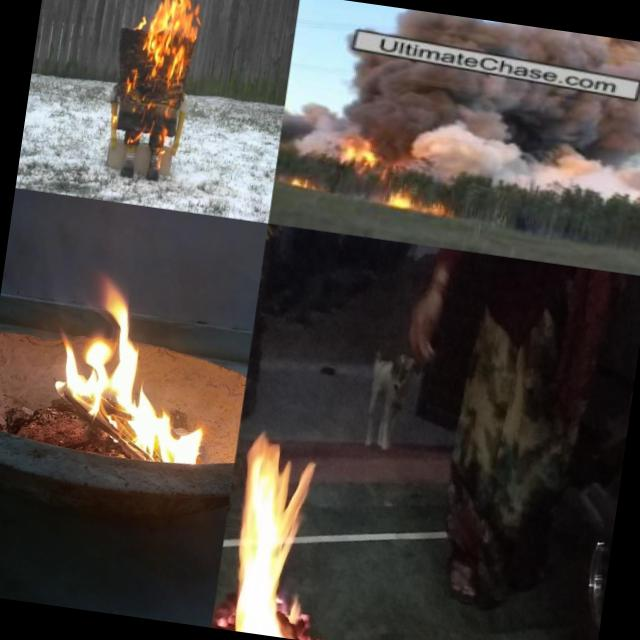fire: (42, 294, 222, 470), (219, 427, 348, 640), (114, 0, 211, 152), (382, 182, 459, 223), (334, 137, 391, 176), (280, 168, 322, 199)
smoke: (373, 56, 640, 209), (283, 98, 381, 142), (344, 52, 389, 112), (290, 130, 338, 162)
